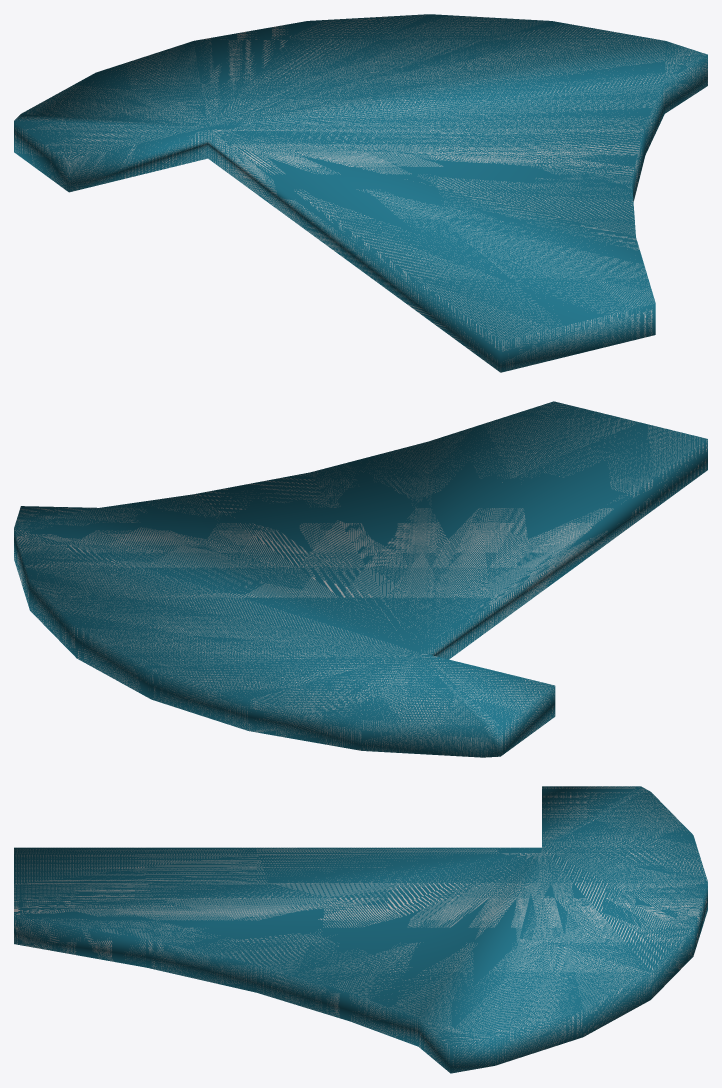
File: original-11.obj
3 views of the same model, one above another, from view 1: azimuth 30°, elevation 25°; view 2: azimuth 150°, elevation 25°; view 3: azimuth 270°, elevation 25° (orthographic). The views are drawn at different scales.
Visible parts, largest first — view 1: mesh10/mesh10-geometry#mesh10-geometry; view 2: mesh10/mesh10-geometry#mesh10-geometry; view 3: mesh10/mesh10-geometry#mesh10-geometry.
Part boxes in pixels (x1=…): mesh10/mesh10-geometry#mesh10-geometry: x1=14, y1=14, x2=707, y2=372; mesh10/mesh10-geometry#mesh10-geometry: x1=14, y1=401, x2=707, y2=757; mesh10/mesh10-geometry#mesh10-geometry: x1=14, y1=786, x2=707, y2=1073.
Size of the model in its own units: 0.17 by 0.00865 by 0.1926.
